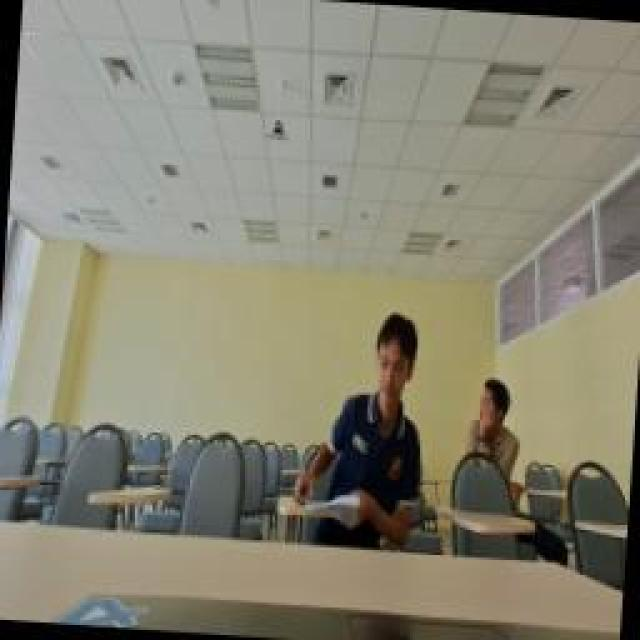study: (293, 282, 435, 538), (455, 365, 530, 517)
